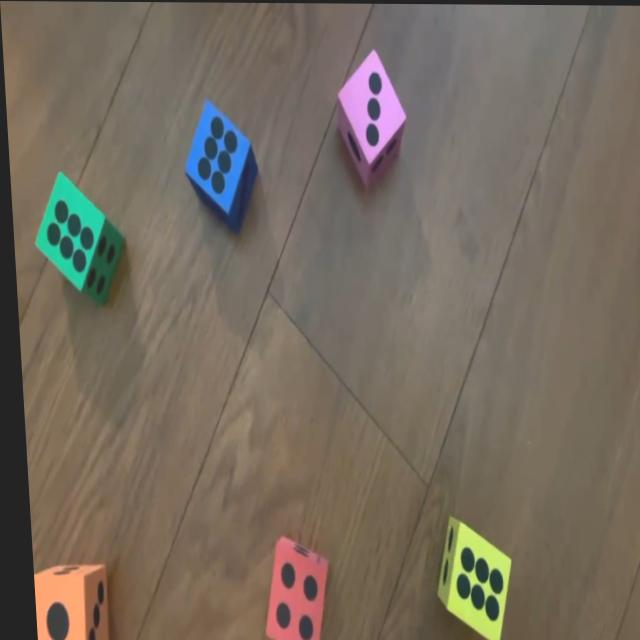blue_block: (179, 99, 259, 230)
red_block: (254, 533, 326, 640)
